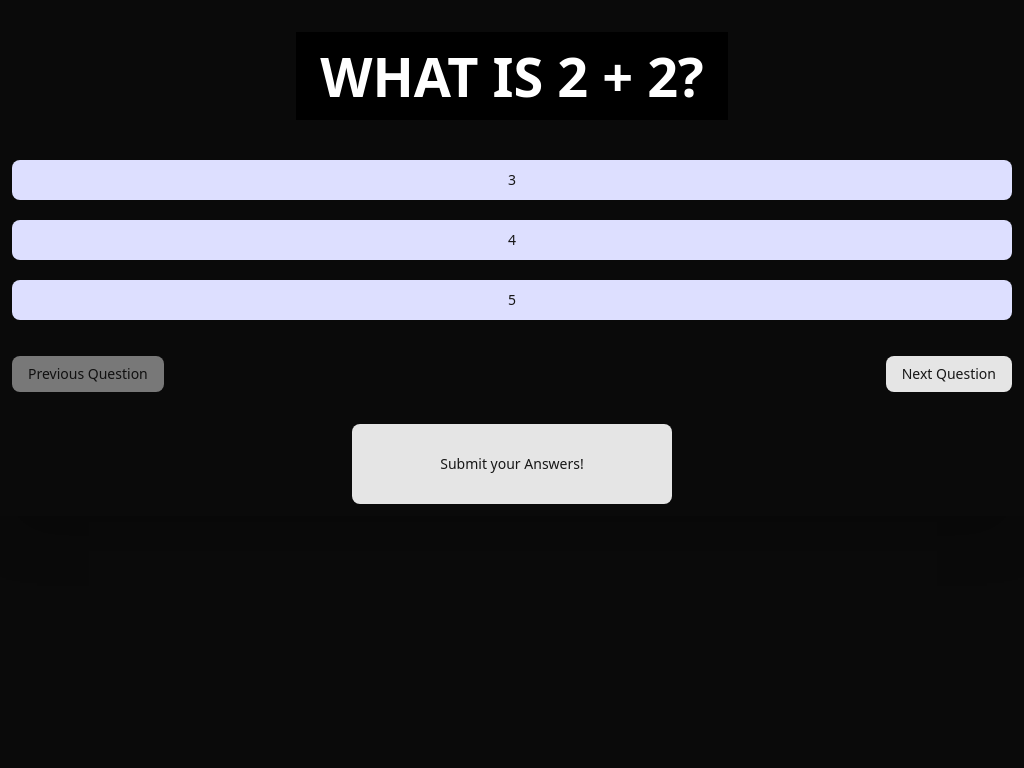
it: QuestionCard Component › Answer Selection › should allow selecting an answer and show feedback
Click the button "4" at (512, 240), box [12,220,1012,260]
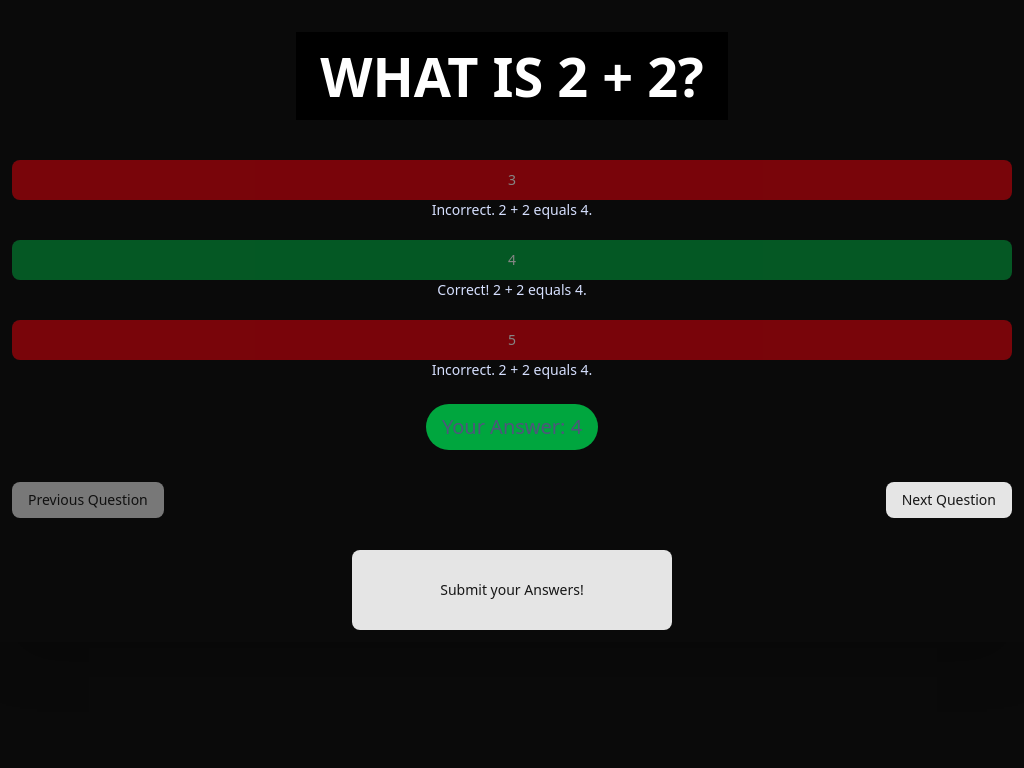
Expected: the text "Correct! 2 + 2 equals 4." is shown, [437,280,587,299]
Expected: the text "Your Answer: 4" is shown, [426,404,598,450]
